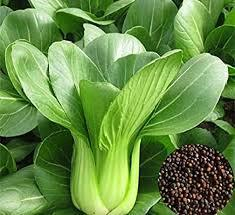Healthy-Pechay: (1, 2, 151, 215), (0, 1, 235, 49), (169, 43, 235, 140)
